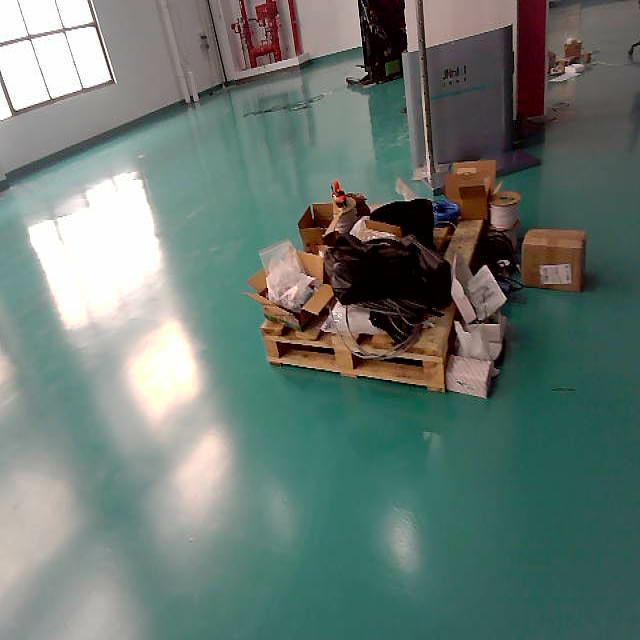euro: (229, 312, 496, 417)
